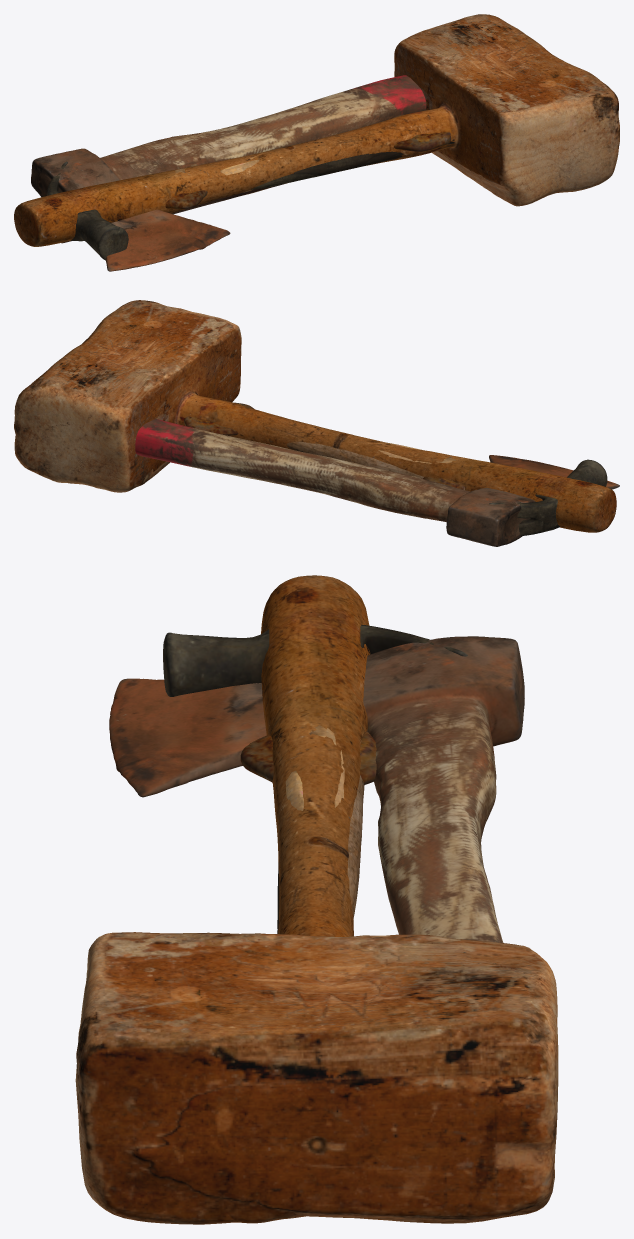
File: Hand_Tools_Pack_ubikcfuva_High.gltf
3 renders of one model, top to bottom at view 1: azimuth 30°, elevation 25°; view 2: azimuth 150°, elevation 25°; view 3: azimuth 270°, elevation 25°, orthographic. The views are drawn at different scales.
Parts seen in each view (by area): view 1: ubikcfuva_LOD0_TIER1_001, ubikcfuva_LOD0_TIER1_005, ubikcfuva_LOD0_TIER1_003, ubikcfuva_LOD0_TIER1_000; view 2: ubikcfuva_LOD0_TIER1_001, ubikcfuva_LOD0_TIER1_005, ubikcfuva_LOD0_TIER1_003, ubikcfuva_LOD0_TIER1_006, ubikcfuva_LOD0_TIER1_000; view 3: ubikcfuva_LOD0_TIER1_001, ubikcfuva_LOD0_TIER1_005, ubikcfuva_LOD0_TIER1_003, ubikcfuva_LOD0_TIER1_000, ubikcfuva_LOD0_TIER1_006, ubikcfuva_LOD0_TIER1_002.
Part boxes in pixels (left/top/right/bottom): ubikcfuva_LOD0_TIER1_001: left=14, top=14, right=619, bottom=246; ubikcfuva_LOD0_TIER1_005: left=31, top=75, right=426, bottom=271; ubikcfuva_LOD0_TIER1_003: left=47, top=139, right=454, bottom=260; ubikcfuva_LOD0_TIER1_000: left=165, top=114, right=450, bottom=208; ubikcfuva_LOD0_TIER1_001: left=14, top=300, right=616, bottom=532; ubikcfuva_LOD0_TIER1_005: left=135, top=419, right=619, bottom=546; ubikcfuva_LOD0_TIER1_003: left=489, top=459, right=607, bottom=535; ubikcfuva_LOD0_TIER1_006: left=286, top=441, right=423, bottom=478; ubikcfuva_LOD0_TIER1_000: left=184, top=399, right=465, bottom=490; ubikcfuva_LOD0_TIER1_001: left=75, top=575, right=558, bottom=1224; ubikcfuva_LOD0_TIER1_005: left=109, top=636, right=524, bottom=942; ubikcfuva_LOD0_TIER1_003: left=163, top=624, right=467, bottom=933; ubikcfuva_LOD0_TIER1_000: left=240, top=731, right=376, bottom=784; ubikcfuva_LOD0_TIER1_006: left=347, top=775, right=364, bottom=918; ubikcfuva_LOD0_TIER1_002: left=285, top=725, right=344, bottom=810.
Size of the model in its own units: 0.4028 by 0.07 by 0.1566.
1 material, 1 textured.
